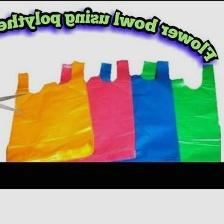plastic_bag: (1, 54, 97, 163), (52, 49, 138, 166), (133, 56, 224, 164), (94, 59, 183, 165)
